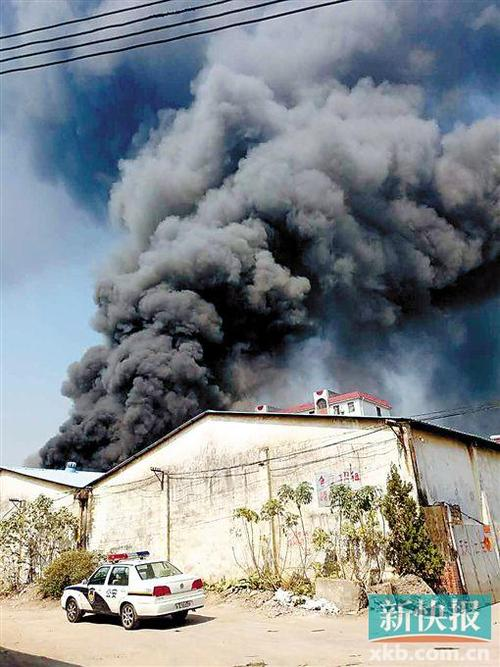smoke: (57, 20, 473, 364)
